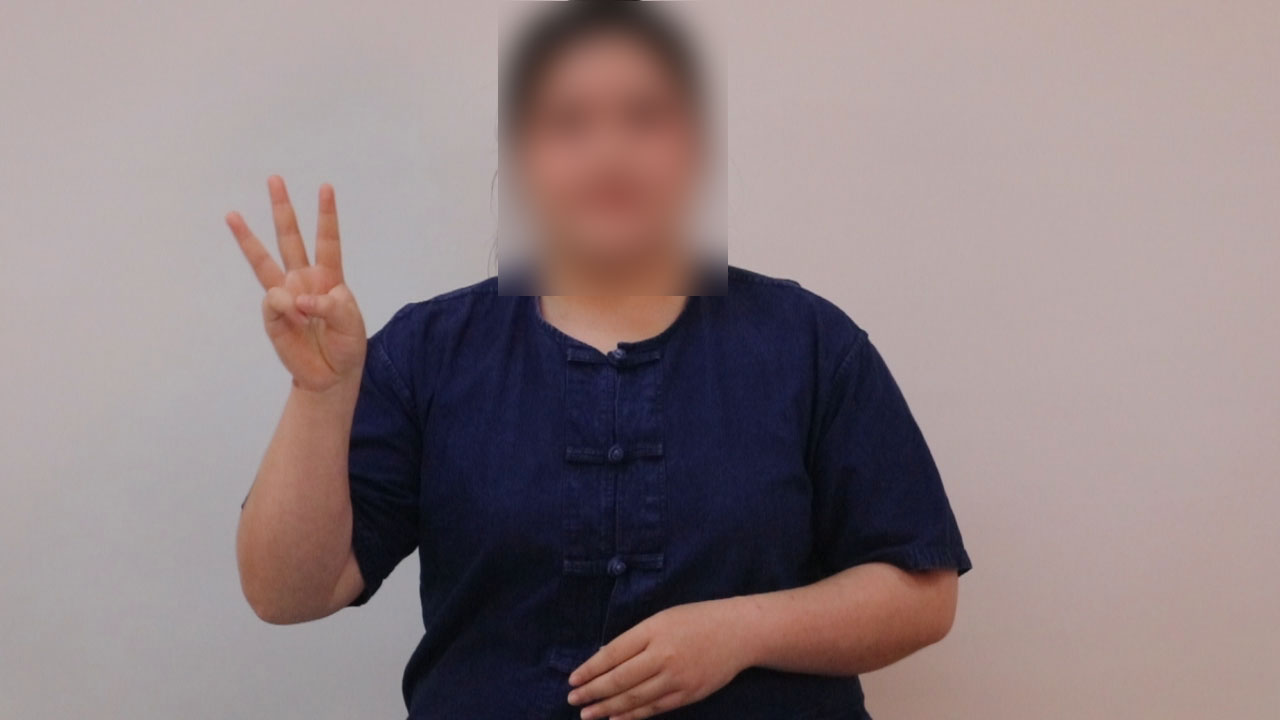wor: (217, 164, 375, 397)
